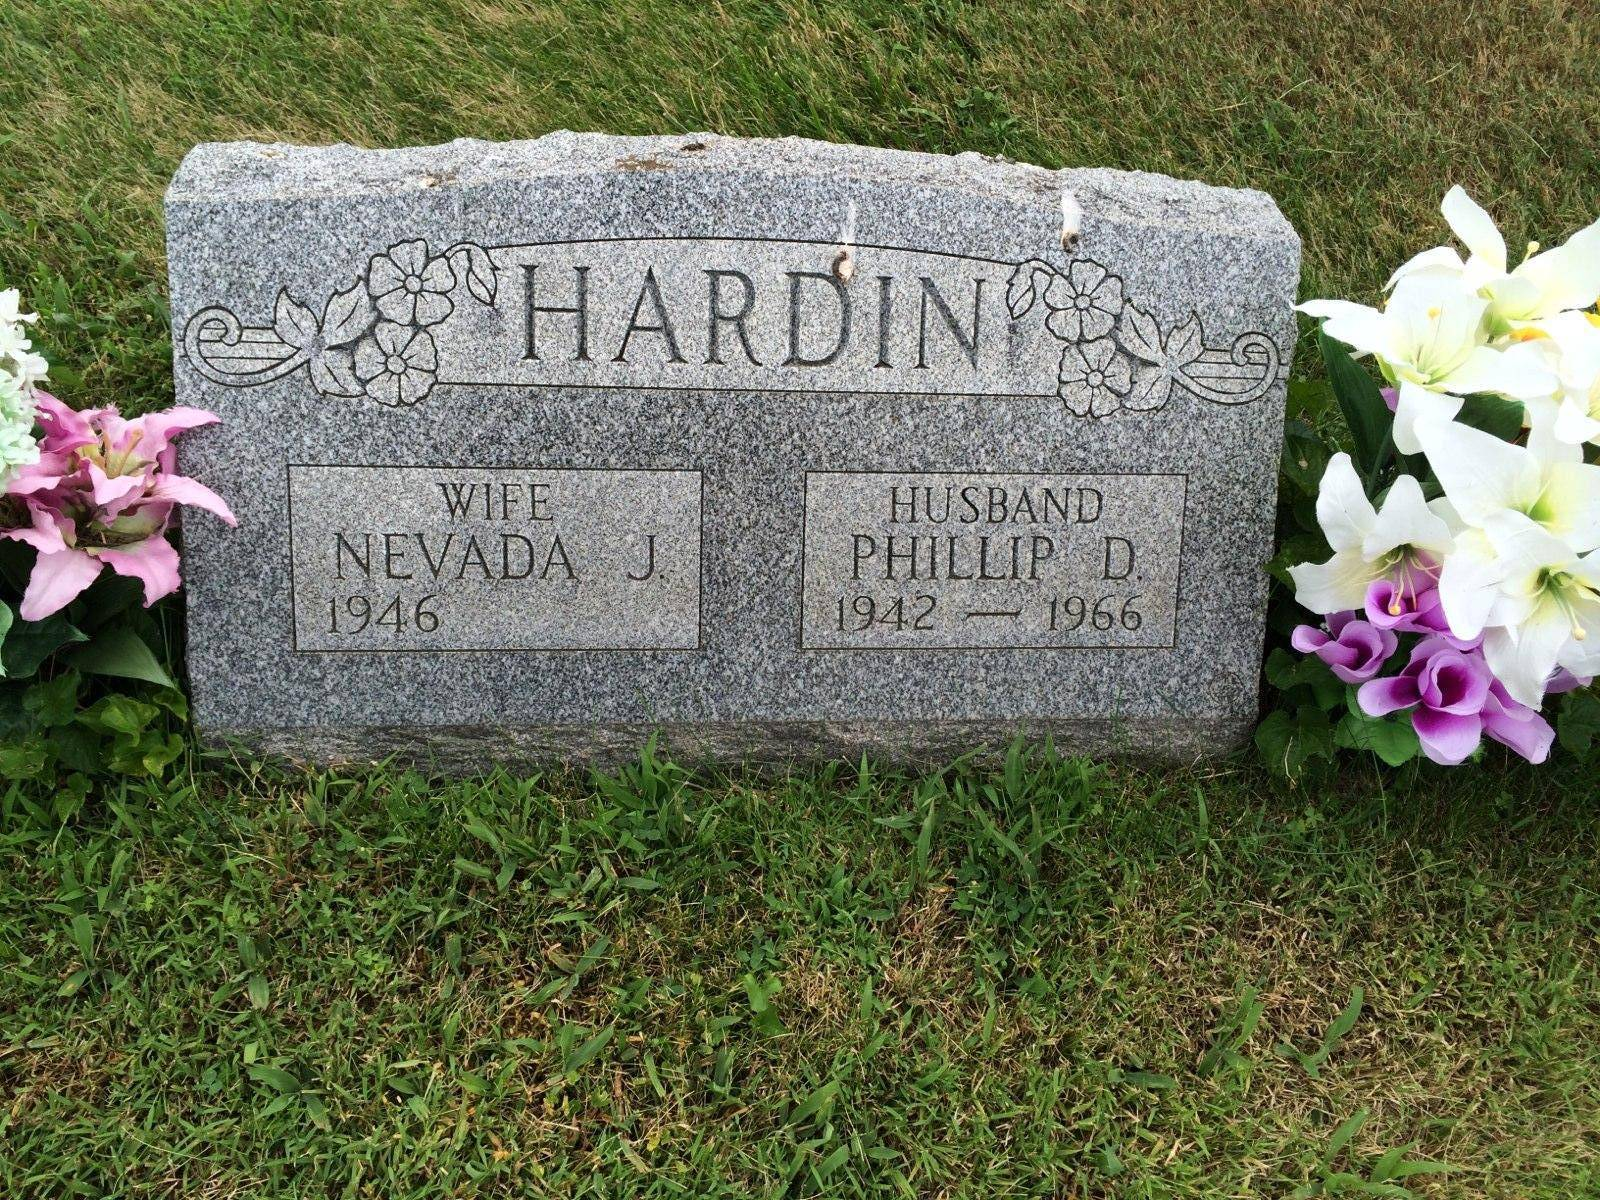upright: (147, 125, 1319, 792)
